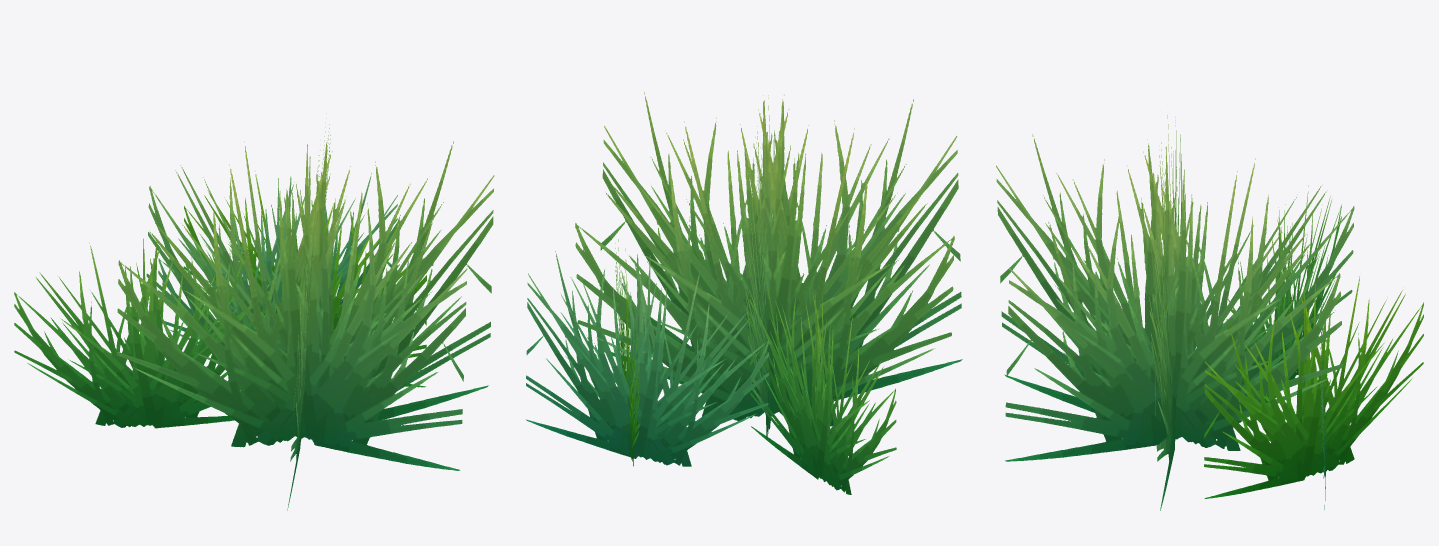
The model's file is grass_tuft.glb.
3 renders of one model, left to right at view 1: azimuth 30°, elevation 25°; view 2: azimuth 150°, elevation 25°; view 3: azimuth 270°, elevation 25°, orthographic. The views are drawn at different scales.
Visible parts, largest first — view 1: grass_tuft; view 2: grass_tuft; view 3: grass_tuft.
Part boxes in pixels (x1,y1,x2,y2): grass_tuft: (14,113,494,510); grass_tuft: (526,92,962,494); grass_tuft: (996,115,1423,510).
Size of the model in its own units: 0.8722 by 0.7432 by 0.8512.
1 material, 1 textured.
